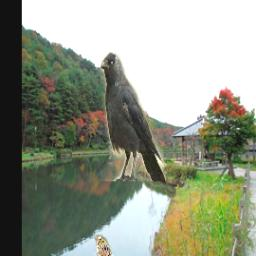Crow: (101, 52, 167, 181)
Sparrow: (95, 236, 124, 256)
